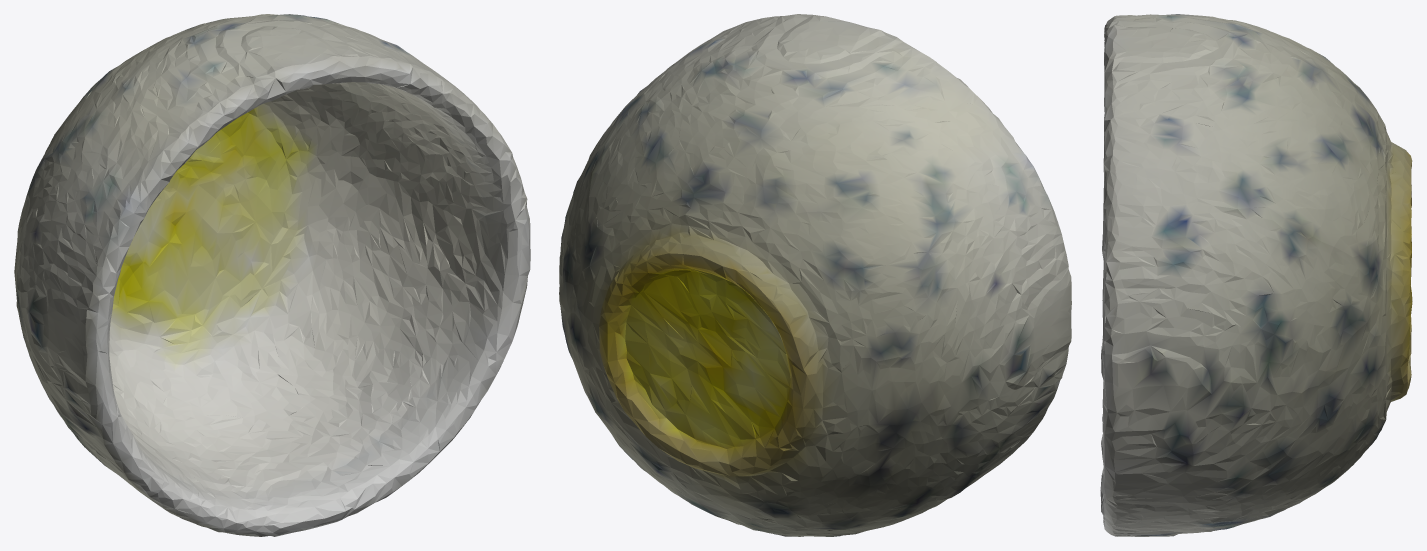
File: bowl_3.glb
The picture shows the model from 3 angles, left to right: view 1: azimuth 30°, elevation 25°; view 2: azimuth 150°, elevation 25°; view 3: azimuth 270°, elevation 25°; orthographic projection.
Visible parts, largest first — view 1: geometry_0; view 2: geometry_0; view 3: geometry_0.
Boxes of the visible parts, x1,y1,x2,y2 form: geometry_0: (14,14,530,536); geometry_0: (559,14,1071,536); geometry_0: (1100,14,1412,536).
Size of the model in its own units: 1 by 0.9996 by 0.6005.
